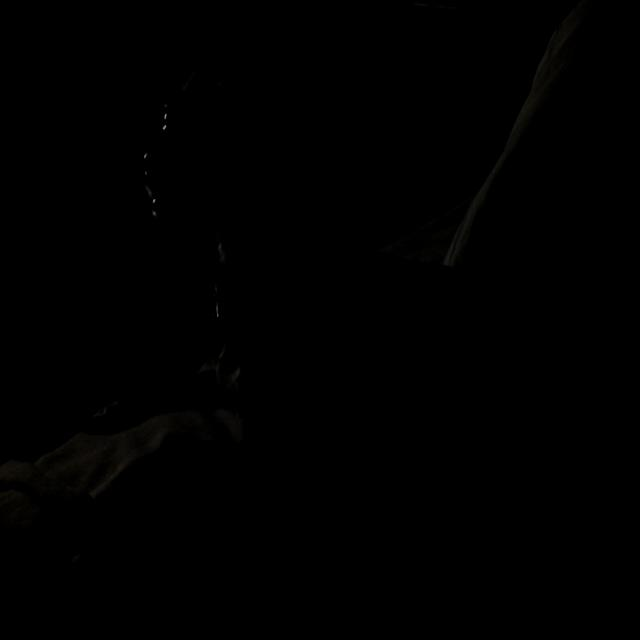Dog: (97, 16, 554, 551)
